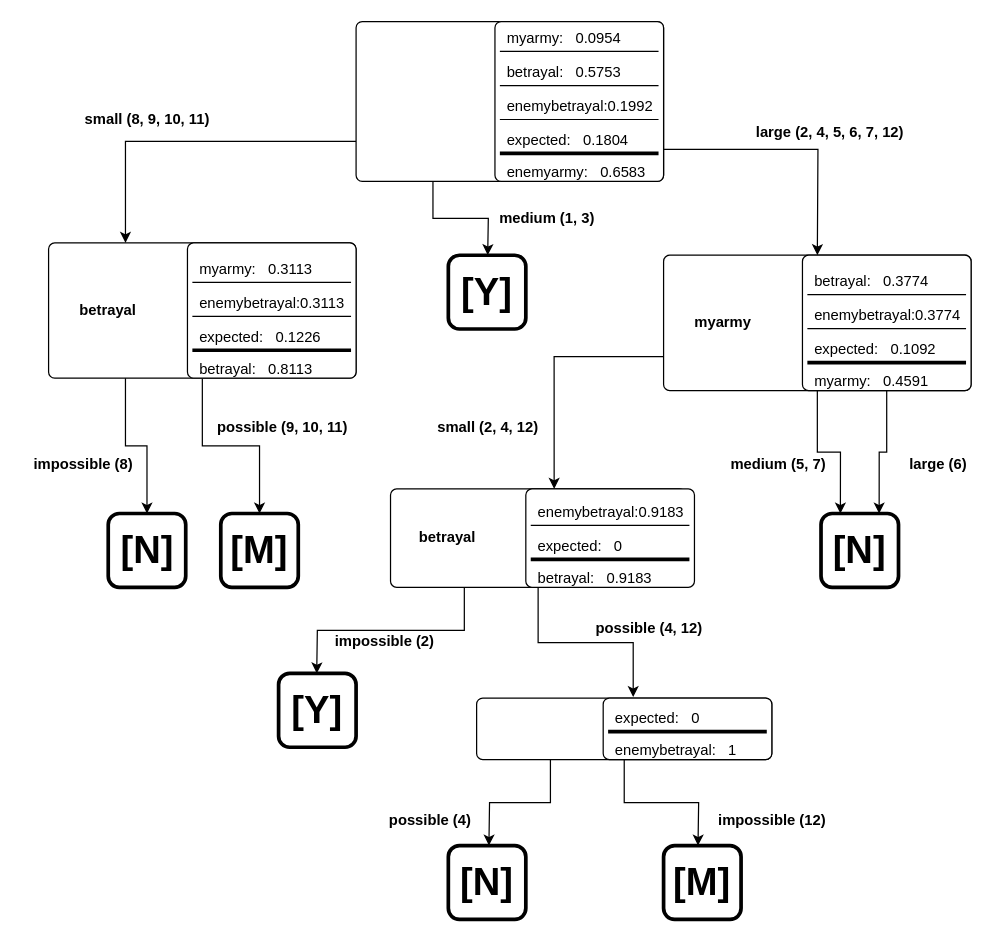
The diagram is 995 pixels wide and 942 high, and some of its shapes have lost their labels. The shapes that lost their labels are listed below. From the top down, each one's centre as x and y in pixels, then its label:
At pixel 415 100: "enemyarmy".
At pixel 533 728: "enemybetrayal".
